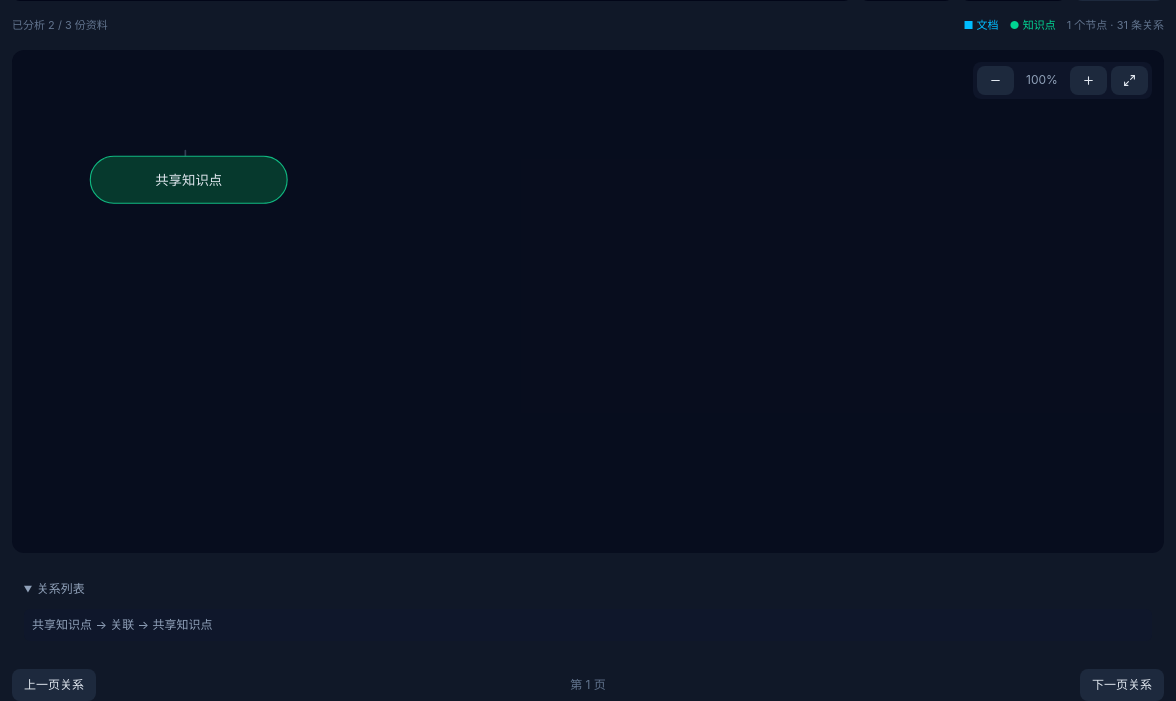
Test: shows actual coverage and can reach later relationships
The image size is (1176, 701).
(page scrolled)
Expected: the text "已分析 2 / 3 份资料" is shown, [12, 17, 108, 34]
Click the button "下一页关系". click: (1122, 685)
box: [1080, 669, 1164, 700]
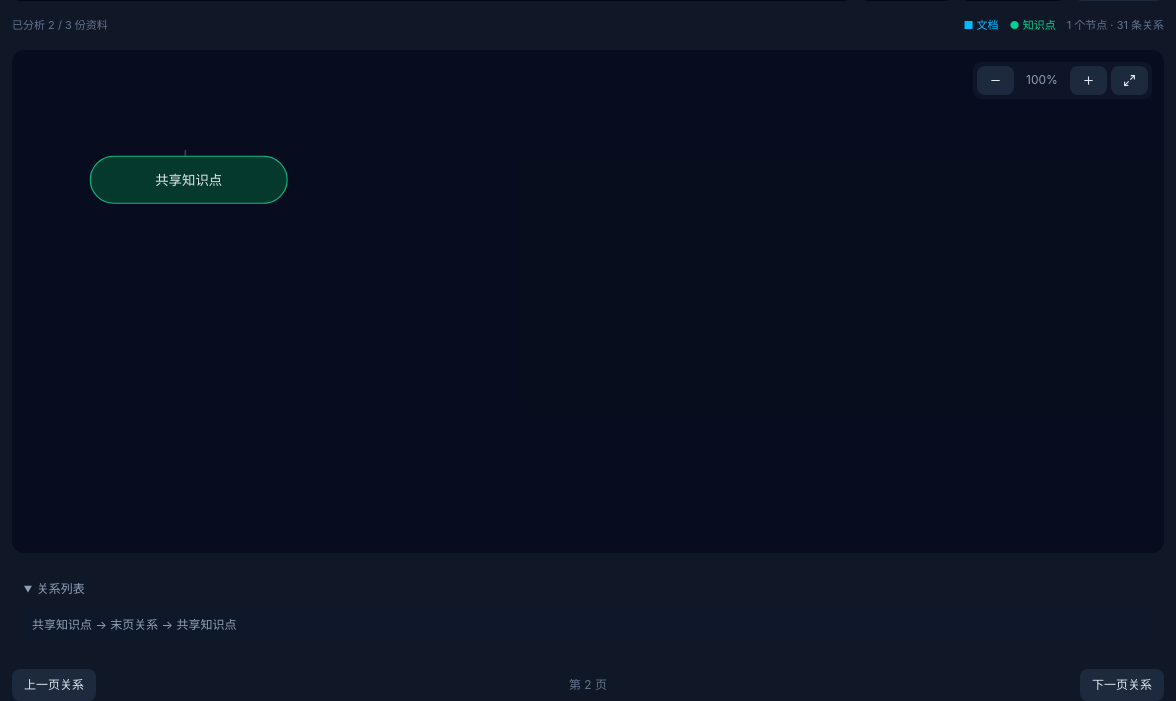
Now the button "共享知识点 → 末页关系 → 共享知识点" is shown, box [24, 609, 1152, 641]
